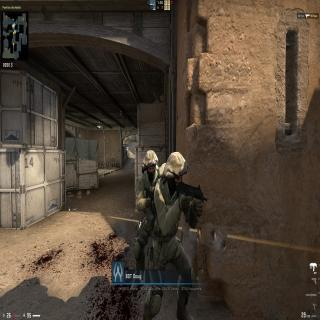CT-Head: (164, 150, 188, 193), (142, 149, 158, 179)
